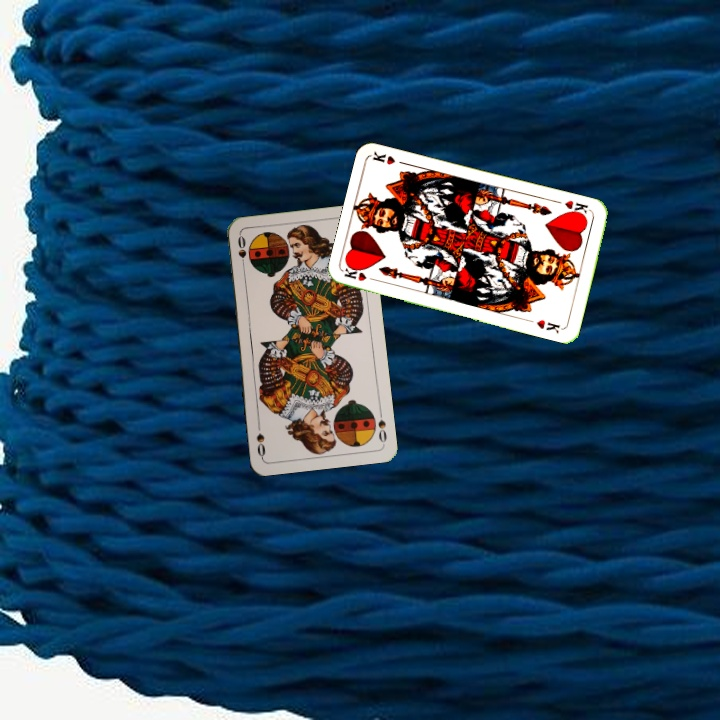HK: (341, 264, 381, 285), (561, 196, 593, 219)
SO: (234, 232, 249, 272), (374, 406, 389, 445)
